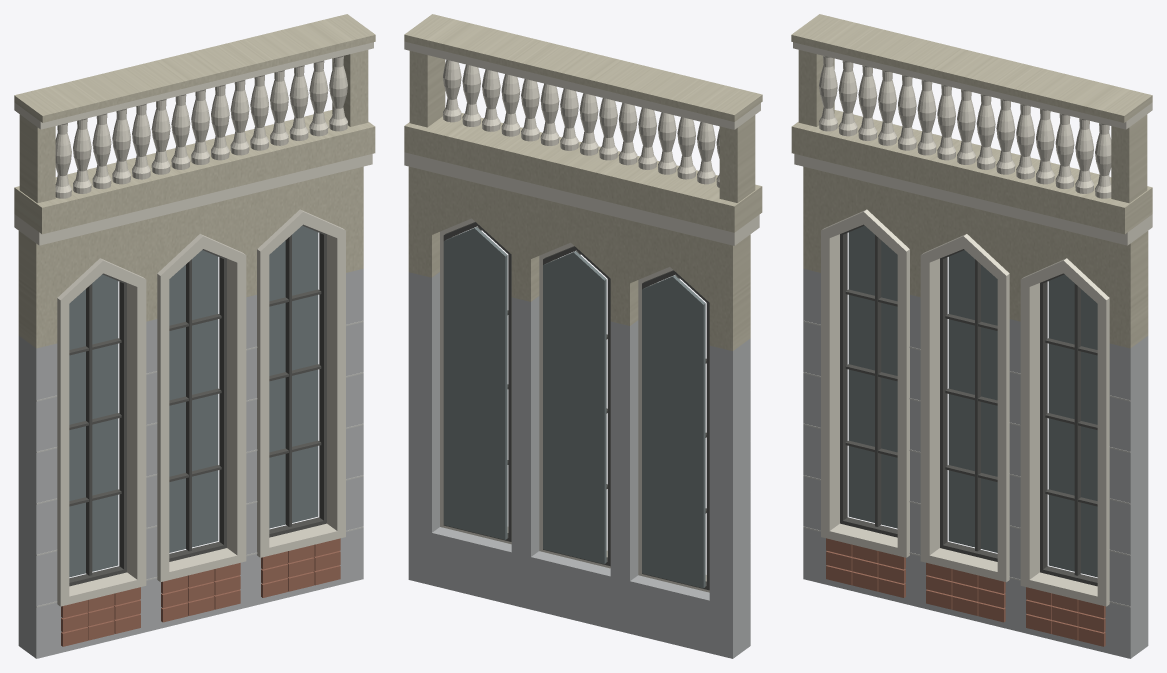
The model's file is longjiang-2-pointed-veranda-near.glb.
3 renders of one model, left to right at view 1: azimuth 30°, elevation 25°; view 2: azimuth 150°, elevation 25°; view 3: azimuth 330°, elevation 25°, orthographic.
Parts seen in each view (by area): view 1: 龙江路2号住宅廊侧三联折线窗与瓶栏; view 2: 龙江路2号住宅廊侧三联折线窗与瓶栏; view 3: 龙江路2号住宅廊侧三联折线窗与瓶栏.
Part boxes in pixels (x1,y1,x2,y2): 龙江路2号住宅廊侧三联折线窗与瓶栏: (14,14,375,658); 龙江路2号住宅廊侧三联折线窗与瓶栏: (404,14,762,658); 龙江路2号住宅廊侧三联折线窗与瓶栏: (791,14,1152,658).
Bounding box in the file's own units: 2.1 × 3.32 × 0.31.
Materials: 7 (1 with a texture image).
